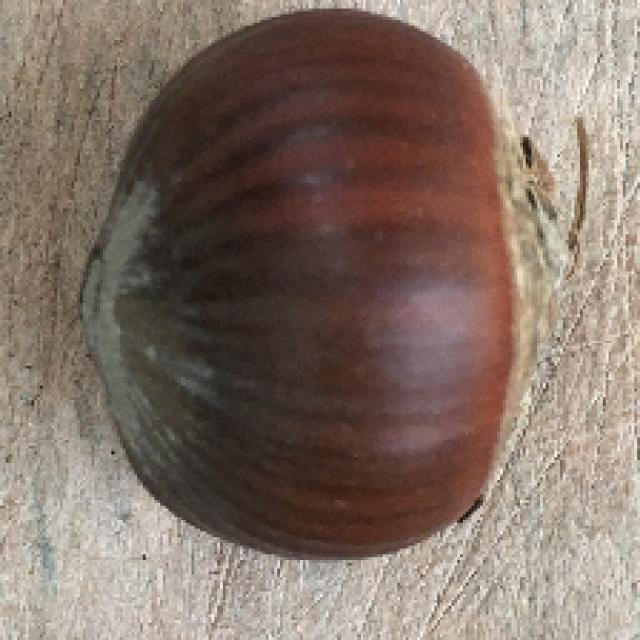damagedHazelnut: (80, 5, 562, 562)
